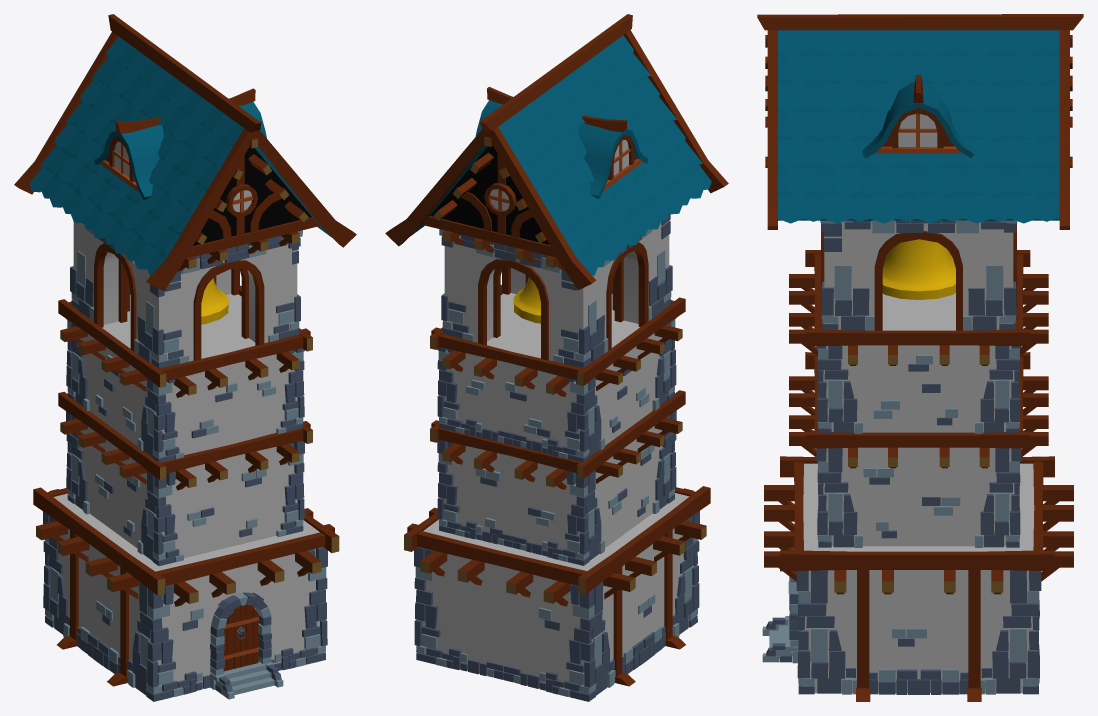
Rendered from bell-tower.obj.
3 views of the same model, side by side, from view 1: azimuth 30°, elevation 25°; view 2: azimuth 150°, elevation 25°; view 3: azimuth 270°, elevation 25° (orthographic). The views are drawn at different scales.
Visible parts, largest first — view 1: Bell_Tower_Cube.296; view 2: Bell_Tower_Cube.296; view 3: Bell_Tower_Cube.296.
Boxes of the visible parts, x1,y1,x2,y2 form: Bell_Tower_Cube.296: (14, 14, 356, 701); Bell_Tower_Cube.296: (385, 14, 728, 701); Bell_Tower_Cube.296: (757, 14, 1083, 701).
Size of the model in its own units: 6.1 by 15 by 7.02.
